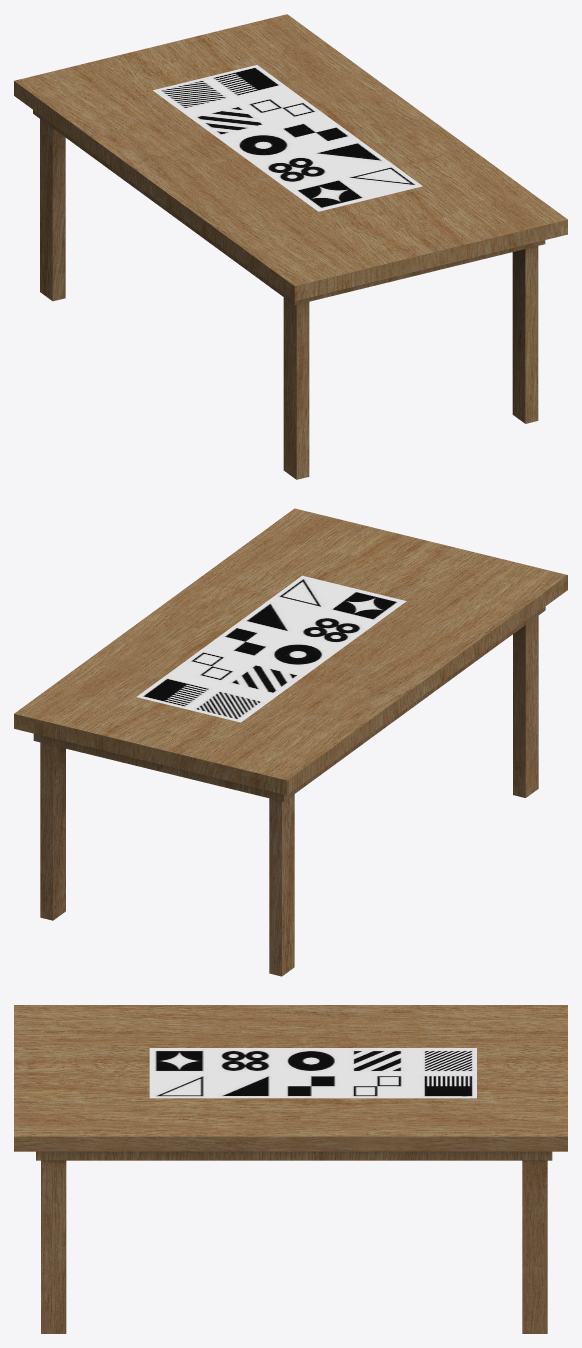
File: table-shapes-3.glb
3 views of the same model, one above another, from view 1: azimuth 30°, elevation 25°; view 2: azimuth 150°, elevation 25°; view 3: azimuth 270°, elevation 25° (orthographic).
Parts seen in each view (by area): view 1: skppH0rwK1, Model; view 2: skppH0rwK1, Model; view 3: skppH0rwK1, Model.
Boxes of the visible parts, x1=… form: skppH0rwK1: x1=14, y1=14, x2=567, y2=479; Model: x1=153, y1=65, x2=422, y2=211; skppH0rwK1: x1=14, y1=508, x2=567, y2=976; Model: x1=137, y1=575, x2=406, y2=722; skppH0rwK1: x1=14, y1=1005, x2=567, y2=1333; Model: x1=149, y1=1048, x2=476, y2=1098.
Bounding box in the file's own units: 22.14 × 16.18 × 39.37.
2 materials, 2 textured.
